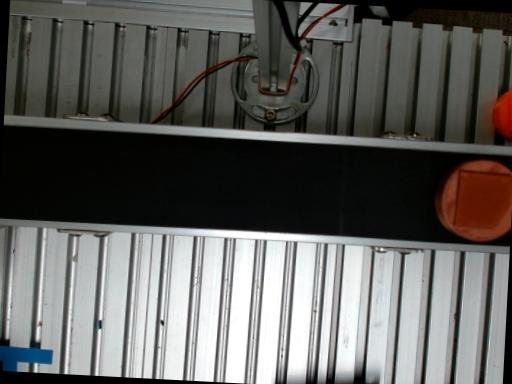Brown_Waper: (435, 159, 512, 241)
Not_Square: (453, 172, 512, 230)
